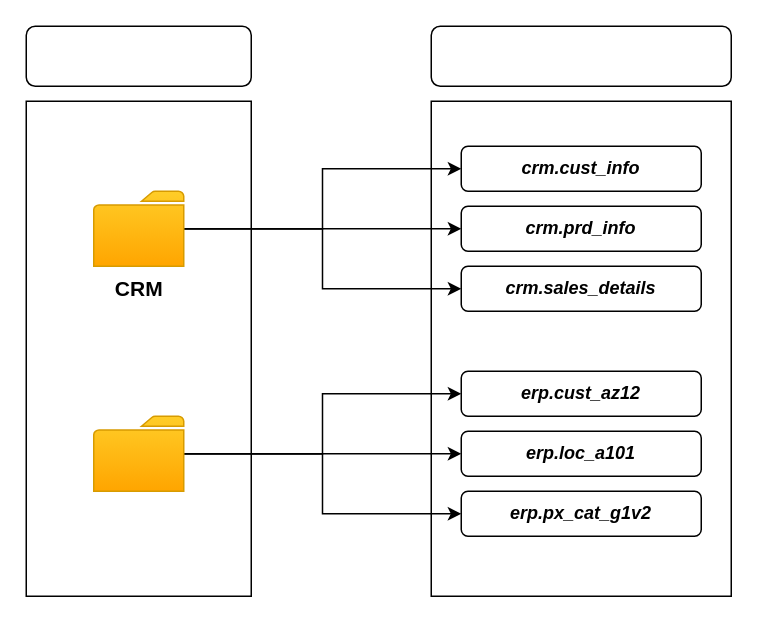
Image size: 758x623. Some labels were removed from this diagram. The shapes that lost their labels are listed below. From the top down, each one's centre as x and y in pixels, then its label:
At point 138,55: "Source Systems".
At point 580,55: "Bronze Layer".
At point 138,453: "ERP".
